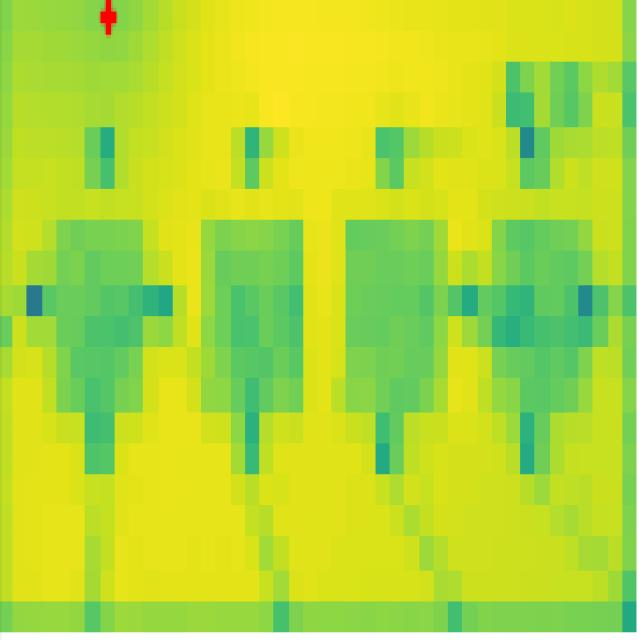Concrete: (490, 219, 594, 412)
Glass: (346, 219, 446, 414)
Metal: (49, 218, 146, 414)
Wood: (201, 218, 306, 417)
